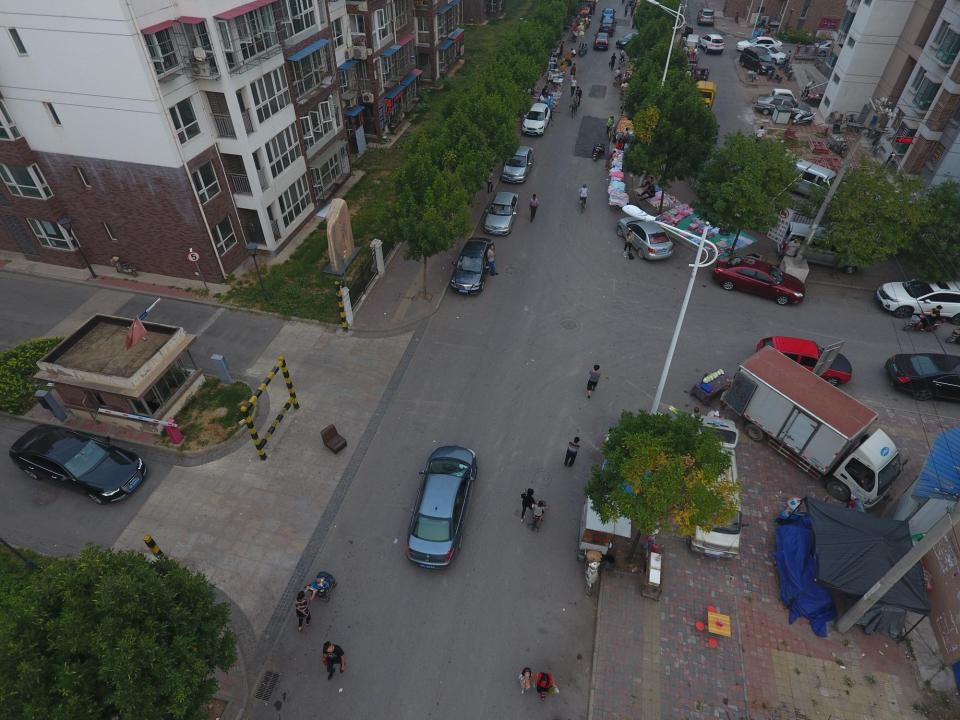car: (8, 424, 148, 505), (405, 445, 477, 569), (756, 336, 852, 386), (714, 256, 806, 305), (876, 277, 960, 324), (884, 353, 960, 404), (450, 237, 494, 294), (616, 217, 674, 260), (484, 191, 518, 235), (755, 94, 811, 118), (502, 145, 533, 183), (521, 103, 550, 136), (744, 44, 788, 63), (695, 112, 721, 143), (736, 36, 783, 52), (615, 31, 651, 50), (813, 40, 854, 56), (770, 88, 797, 106), (700, 34, 725, 53), (598, 18, 617, 36), (697, 8, 715, 25), (594, 32, 610, 50), (602, 8, 616, 20)
truck: (722, 346, 908, 508)
van: (686, 414, 750, 558), (777, 221, 870, 274), (766, 156, 845, 203), (740, 46, 776, 74), (684, 34, 700, 56)
